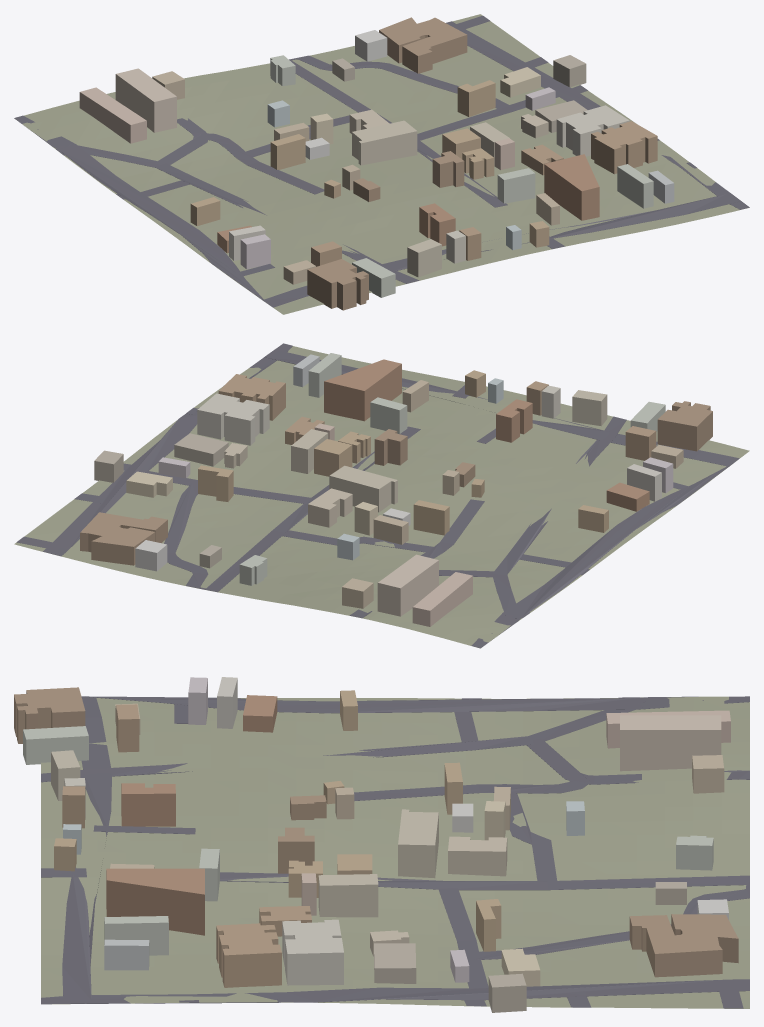
The model's file is chunk_10_7.glb.
The picture shows the model from 3 angles, top to bottom: view 1: azimuth 30°, elevation 25°; view 2: azimuth 150°, elevation 25°; view 3: azimuth 270°, elevation 25°; orthographic projection. The views are drawn at different scales.
Visible parts, largest first — view 1: geometry_50, geometry_51, geometry_48, geometry_49, geometry_54, geometry_14, geometry_4, geometry_3, geometry_35, geometry_53, geometry_2, geometry_0 (+40 smaller); view 2: geometry_50, geometry_51, geometry_53, geometry_49, geometry_48, geometry_2, geometry_14, geometry_3, geometry_54, geometry_58, geometry_35, geometry_0 (+38 smaller); view 3: geometry_50, geometry_53, geometry_48, geometry_54, geometry_51, geometry_49, geometry_14, geometry_55, geometry_4, geometry_2, geometry_58, geometry_3 (+42 smaller).
Part boxes in pixels (x1,y1,x2,y2): geometry_50: (22,14,749,314); geometry_51: (14,115,267,303); geometry_48: (379,17,467,73); geometry_49: (544,154,599,220); geometry_54: (264,193,740,307); geometry_14: (115,68,176,132); geometry_4: (591,121,657,174); geometry_3: (307,259,368,310); geometry_35: (352,120,417,165); geometry_53: (446,21,749,209); geometry_2: (556,105,629,156); geometry_0: (79,87,146,143); geometry_50: (14,346,749,648); geometry_51: (471,463,733,648); geometry_53: (43,343,292,556); geometry_49: (324,359,401,421); geometry_48: (80,512,167,565); geometry_2: (197,393,269,445); geometry_14: (377,554,438,616); geometry_3: (657,401,712,451); geometry_54: (264,349,739,466); geometry_58: (493,416,626,615); geometry_35: (329,465,397,512); geometry_0: (412,572,472,626); geometry_50: (41,696,749,1008); geometry_53: (41,979,749,1004); geometry_48: (629,914,738,977); geometry_54: (62,696,111,1003); geometry_51: (82,696,749,713); geometry_49: (106,868,204,935); geometry_14: (620,715,721,771); geometry_55: (220,872,749,890); geometry_4: (216,923,281,987); geometry_2: (282,919,343,985); geometry_58: (41,704,643,782); geometry_3: (14,687,85,743).
Bounding box in the file's own units: 254 × 21.16 × 260.
